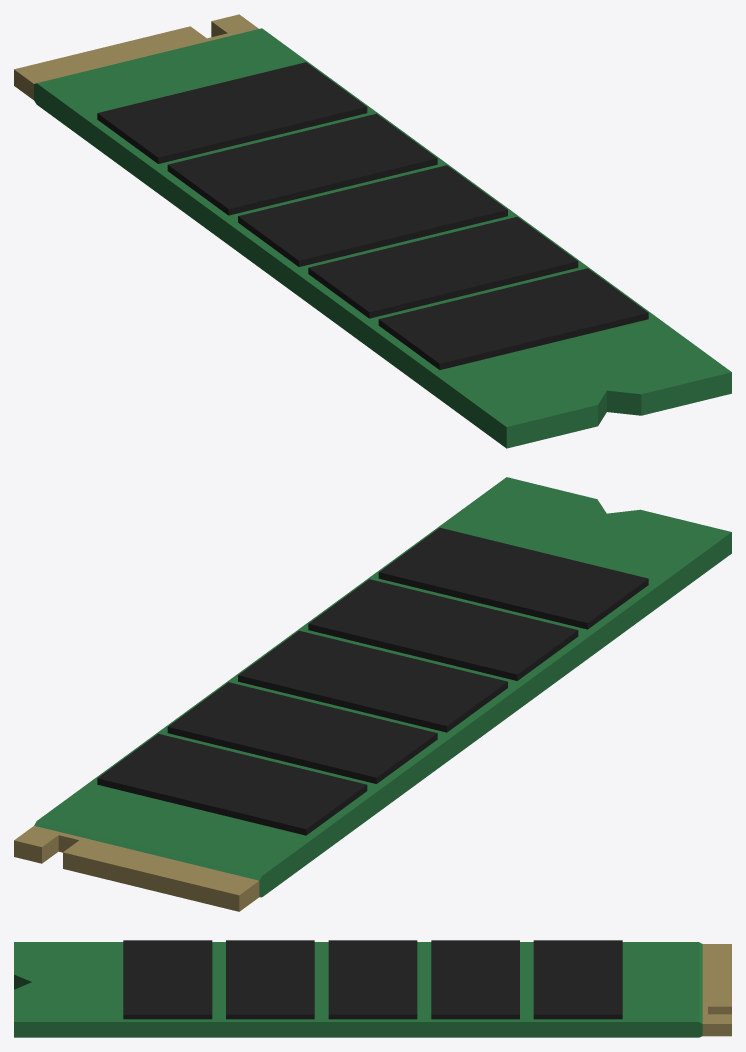
3 views of the same model, one above another, from view 1: azimuth 30°, elevation 25°; view 2: azimuth 150°, elevation 25°; view 3: azimuth 270°, elevation 25° (orthographic). The views are drawn at different scales.
Visible parts, largest first — view 1: M2_1; view 2: M2_1; view 3: M2_1.
Boxes of the visible parts, box(x1,y1,x2,y2) form: M2_1: box(14, 14, 731, 448); M2_1: box(14, 477, 731, 911); M2_1: box(14, 940, 731, 1037).
Size of the model in its own units: 2.2 by 0.26 by 8.33.
